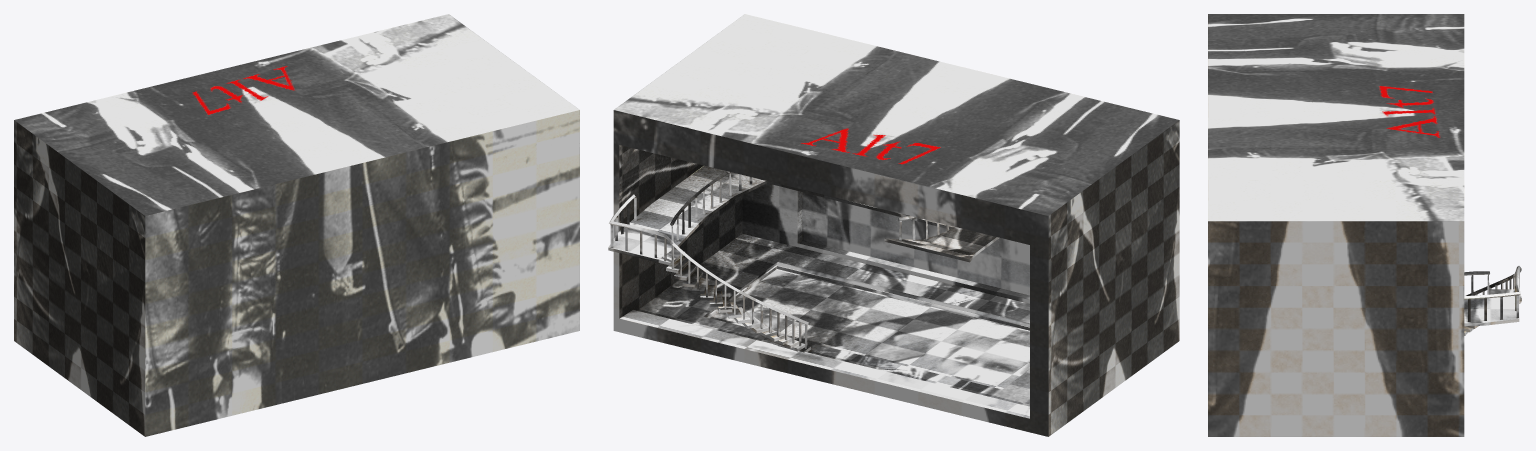
3 views of the same model, side by side, from view 1: azimuth 30°, elevation 25°; view 2: azimuth 150°, elevation 25°; view 3: azimuth 270°, elevation 25° (orthographic). The views are drawn at different scales.
Parts seen in each view (by area): view 1: alt3; view 2: alt3; view 3: alt3.
Part boxes in pixels (box(x1,y1,x2,y2)): alt3: box(14, 14, 579, 436); alt3: box(608, 14, 1179, 436); alt3: box(1208, 14, 1521, 436).
Size of the model in its own units: 0.1272 by 0.0617 by 0.0814.
1 material, 1 textured.
